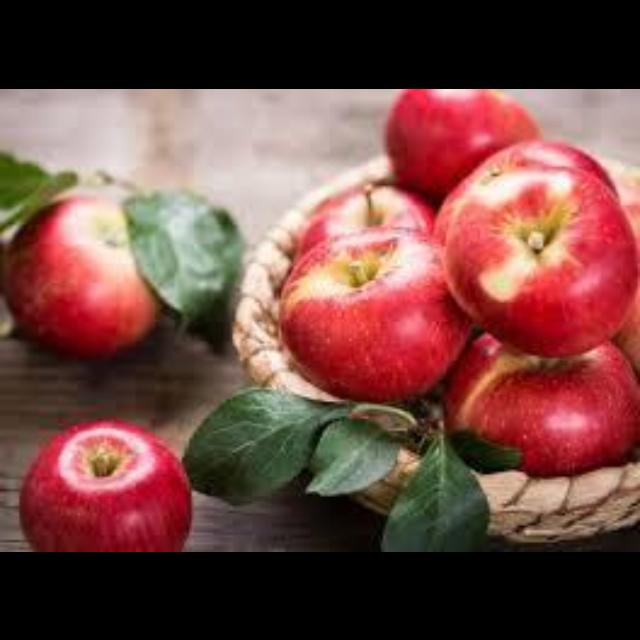apple: (441, 163, 635, 355), (279, 226, 470, 401), (444, 333, 638, 473), (0, 195, 158, 355), (19, 420, 189, 549), (434, 139, 616, 233), (385, 88, 538, 197), (296, 183, 432, 255)
